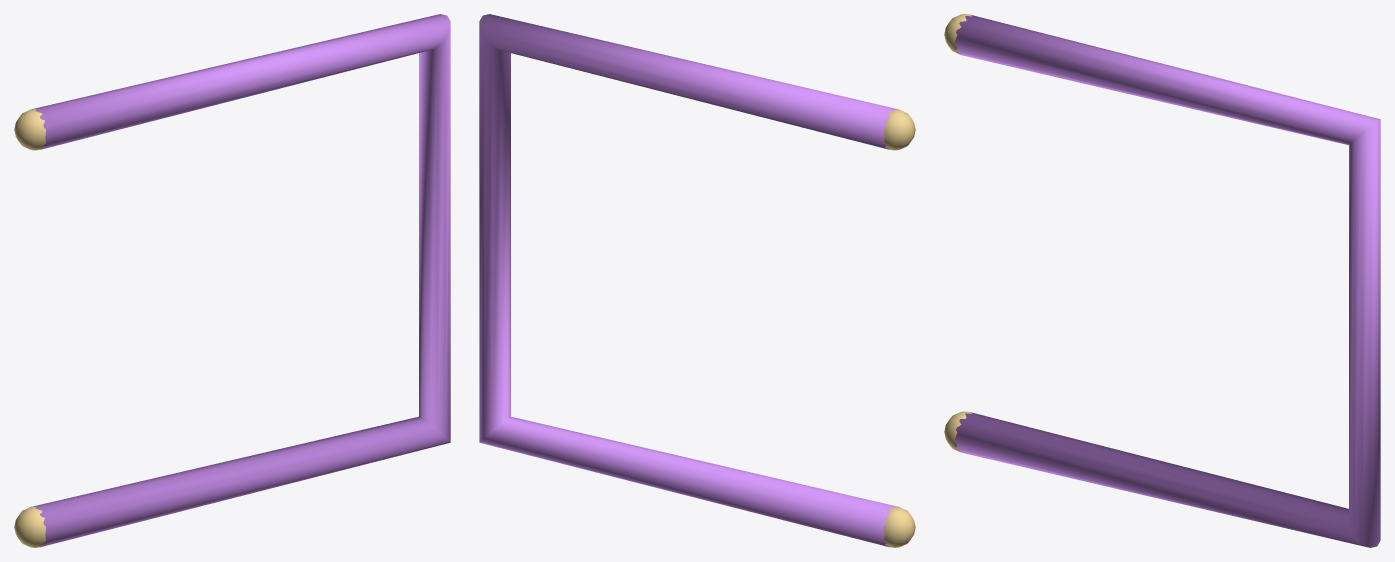
The model's file is bracket-B2djTCDw.glb.
3 views of the same model, side by side, from view 1: azimuth 30°, elevation 25°; view 2: azimuth 150°, elevation 25°; view 3: azimuth 330°, elevation 25° (orthographic).
Parts seen in each view (by area): view 1: R3D_bracket_Body_0, R3D_bracket_Tip_1, R3D_bracket_Tip_0; view 2: R3D_bracket_Body_0, R3D_bracket_Tip_1, R3D_bracket_Tip_0; view 3: R3D_bracket_Body_0.
Boxes of the visible parts, x1,y1,x2,y2 form: R3D_bracket_Body_0: (30, 14, 450, 547); R3D_bracket_Tip_1: (14, 109, 45, 150); R3D_bracket_Tip_0: (14, 506, 45, 547); R3D_bracket_Body_0: (479, 14, 899, 547); R3D_bracket_Tip_1: (884, 109, 915, 150); R3D_bracket_Tip_0: (884, 506, 915, 547); R3D_bracket_Body_0: (954, 14, 1380, 547).
Size of the model in its own units: 2.15 by 2.08 by 0.18.
